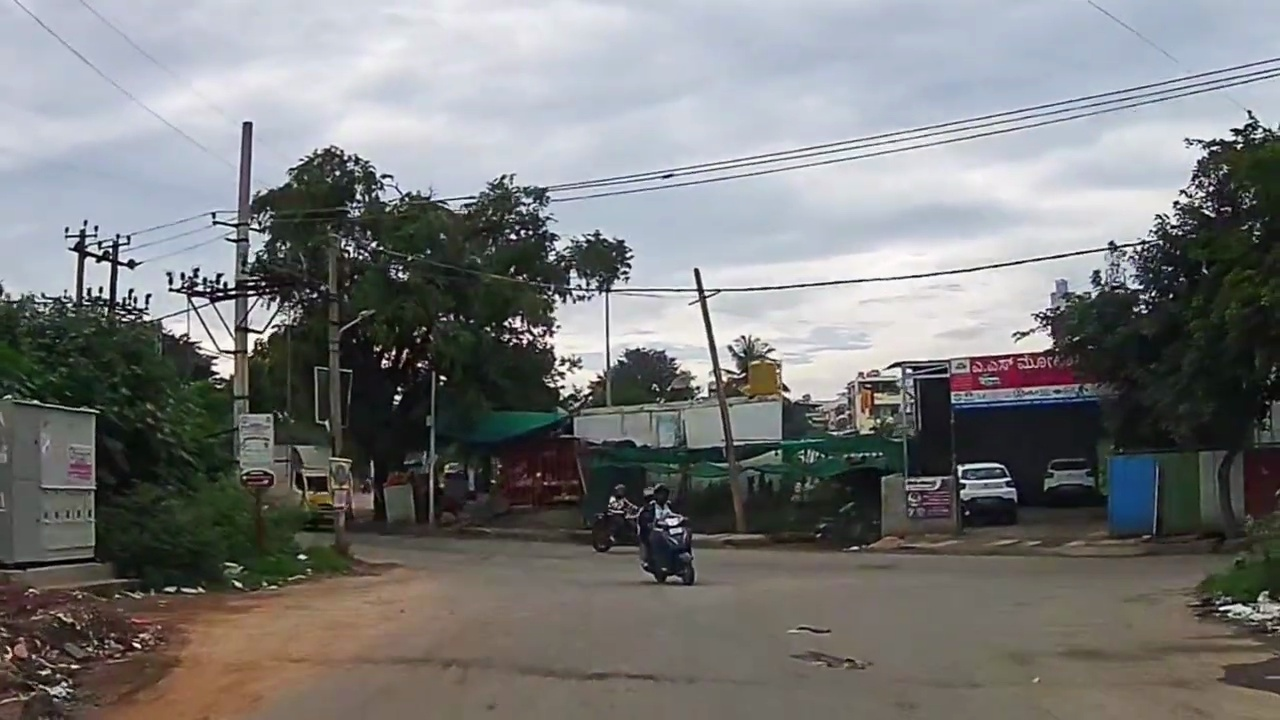garbage: (1204, 595, 1279, 628)
